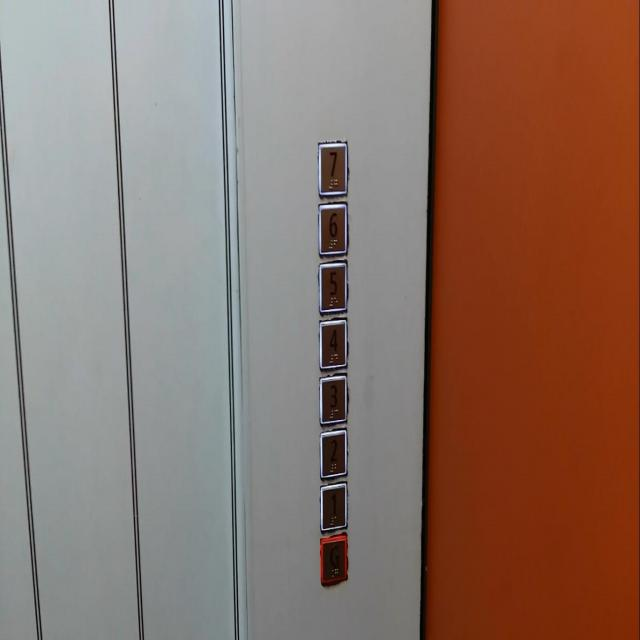1: (318, 479, 349, 535)
2: (318, 423, 349, 481)
3: (317, 372, 349, 428)
4: (317, 314, 349, 374)
5: (316, 257, 349, 315)
6: (316, 198, 350, 260)
7: (316, 136, 349, 202)
G: (318, 532, 349, 590)
